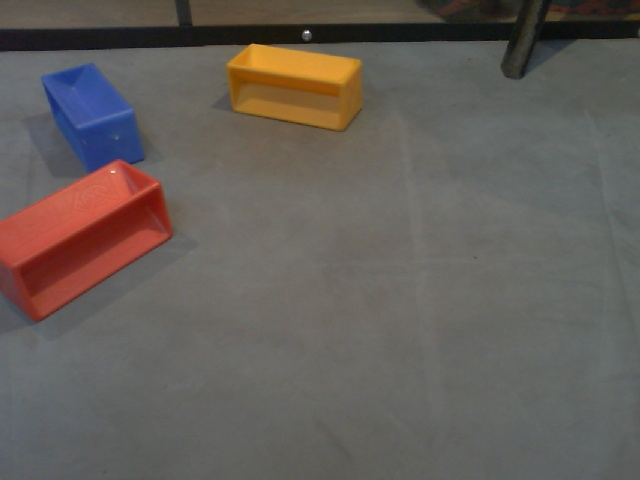BlueSample: (38, 58, 150, 175)
RedSample: (1, 158, 177, 321)
YellowSample: (222, 38, 367, 138)
